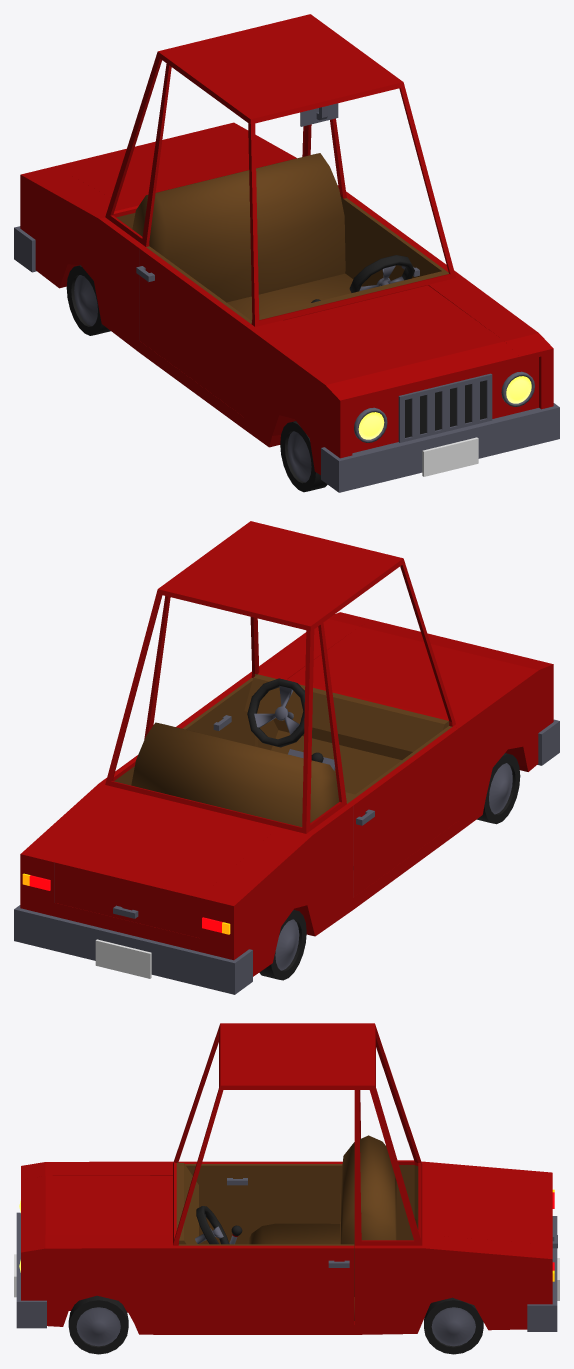
File: car.fbx
3 views of the same model, one above another, from view 1: azimuth 30°, elevation 25°; view 2: azimuth 150°, elevation 25°; view 3: azimuth 270°, elevation 25° (orthographic). The views are drawn at different scales.
Parts seen in each view (by area): view 1: chasse.003, hood.003, door_right.003, bumper_front.005, trunk.003, door_left.003, wheel_backleft.027, wheel_backleft.026, bumper_back.003; view 2: chasse.003, trunk.003, hood.003, door_right.003, bumper_back.003, door_left.003, wheel_backleft.027, wheel_backleft.026, bumper_front.005; view 3: chasse.003, door_left.003, door_right.003, hood.003, trunk.003, wheel_backleft.024, wheel_backleft.025, bumper_front.005, bumper_back.003.
Part boxes in pixels (left/top/right/bottom): chasse.003: left=20, top=14, right=553, bottom=474; hood.003: left=284, top=285, right=518, bottom=391; door_right.003: left=136, top=246, right=251, bottom=417; bumper_front.005: left=321, top=403, right=559, bottom=492; trunk.003: left=55, top=131, right=262, bottom=207; door_left.003: left=343, top=196, right=458, bottom=286; wheel_backleft.027: left=280, top=421, right=327, bottom=492; wheel_backleft.026: left=66, top=265, right=110, bottom=335; bumper_back.003: left=14, top=226, right=36, bottom=272; chasse.003: left=20, top=521, right=553, bottom=976; trunk.003: left=54, top=795, right=273, bottom=937; hood.003: left=288, top=620, right=518, bottom=714; door_right.003: left=346, top=726, right=458, bottom=897; bumper_back.003: left=14, top=905, right=252, bottom=994; door_left.003: left=176, top=676, right=254, bottom=746; wheel_backleft.027: left=477, top=753, right=520, bottom=824; wheel_backleft.026: left=259, top=910, right=306, bottom=980; bumper_front.005: left=537, top=719, right=559, bottom=765; chasse.003: left=19, top=1023, right=554, bottom=1334; door_left.003: left=178, top=1244, right=354, bottom=1324; door_right.003: left=178, top=1161, right=342, bottom=1242; hood.003: left=21, top=1176, right=172, bottom=1238; trunk.003: left=429, top=1176, right=557, bottom=1248; wheel_backleft.024: left=68, top=1295, right=128, bottom=1354; wheel_backleft.025: left=424, top=1297, right=483, bottom=1354; bumper_front.005: left=14, top=1212, right=46, bottom=1328; bumper_back.003: left=527, top=1216, right=559, bottom=1331.
Bounding box in the file's own units: 225 × 295 × 566.
